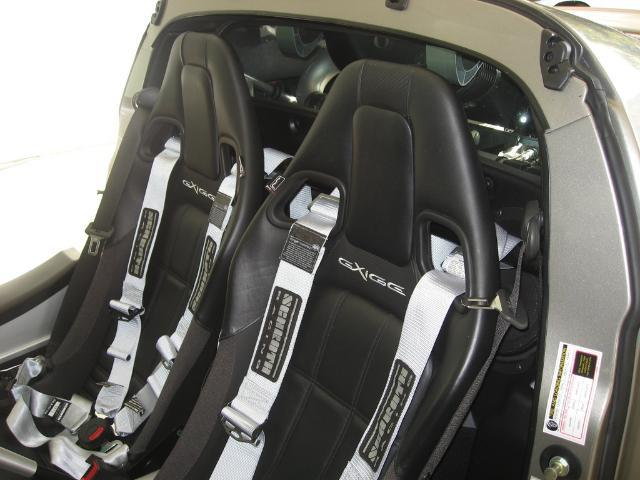Seatbelt: (3, 137, 296, 479), (207, 230, 527, 480)
